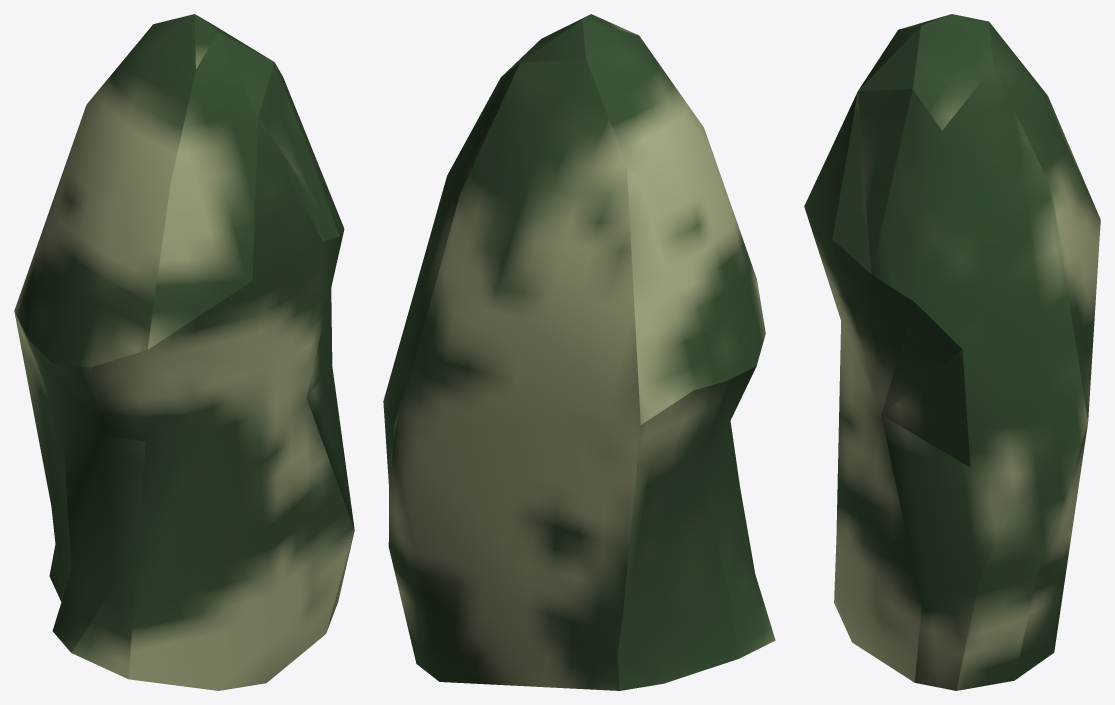
File: link_leg_0_L_1_composite.obj
3 renders of one model, left to right at view 1: azimuth 30°, elevation 25°; view 2: azimuth 150°, elevation 25°; view 3: azimuth 270°, elevation 25°, orthographic. The views are drawn at different scales.
Bounding box in the file's own units: 4.37 × 8.35 × 3.63.
1 material, 1 textured.
